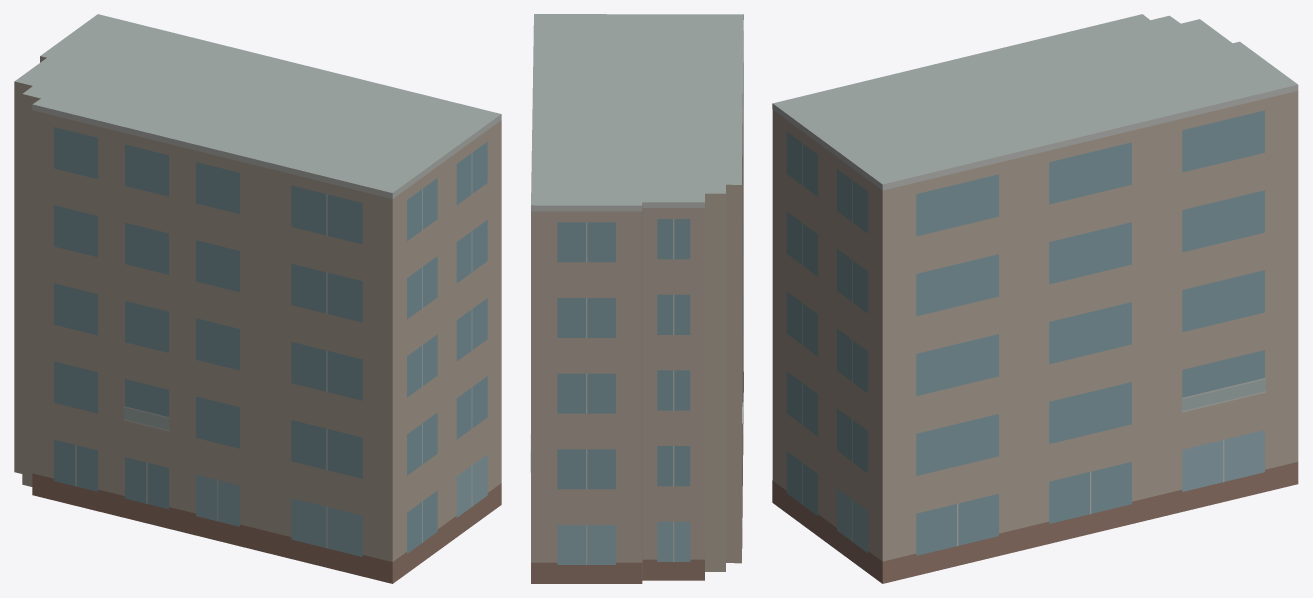
File: survey-upis-32530610.glb
3 renders of one model, left to right at view 1: azimuth 30°, elevation 25°; view 2: azimuth 150°, elevation 25°; view 3: azimuth 270°, elevation 25°, orthographic. The views are drawn at different scales.
Visible parts, largest first — view 1: survey-upis-32530610.tmp; view 2: survey-upis-32530610.tmp; view 3: survey-upis-32530610.tmp.
Part boxes in pixels (x1,y1,x2,y2): survey-upis-32530610.tmp: [14, 14, 501, 583]; survey-upis-32530610.tmp: [530, 14, 743, 583]; survey-upis-32530610.tmp: [772, 14, 1298, 583].
Size of the model in its own units: 14.71 by 16.05 by 19.16.
